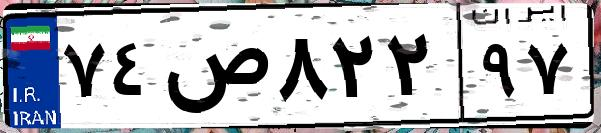2: (385, 28, 445, 110), (330, 28, 385, 110)
4: (110, 28, 158, 98)
7: (57, 26, 110, 100), (525, 38, 570, 115)
8: (270, 28, 330, 110)
9: (475, 38, 525, 113)
ص: (158, 20, 270, 120)
